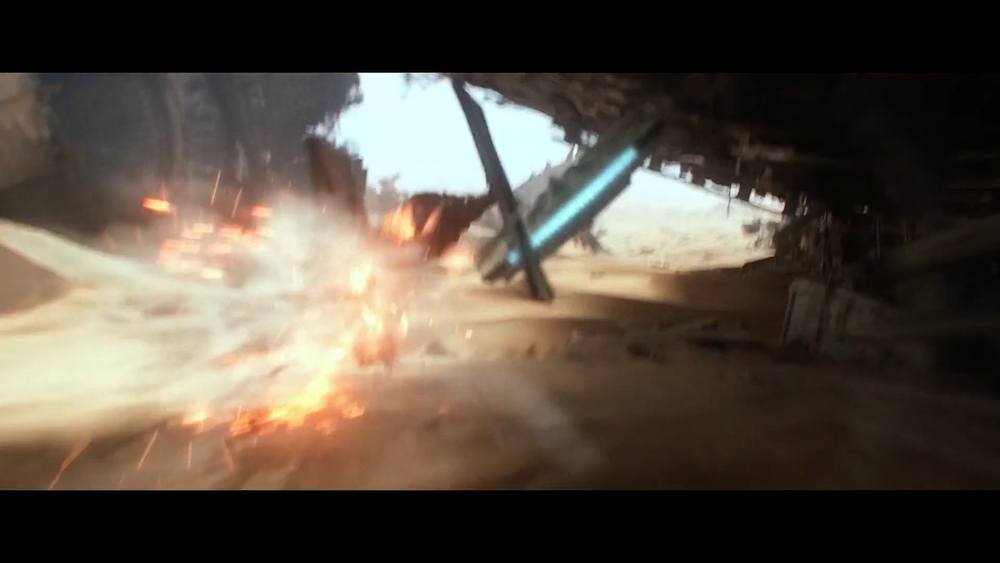Millennium Falcon: (473, 110, 670, 286)
Tie Fighter: (298, 76, 559, 373)
